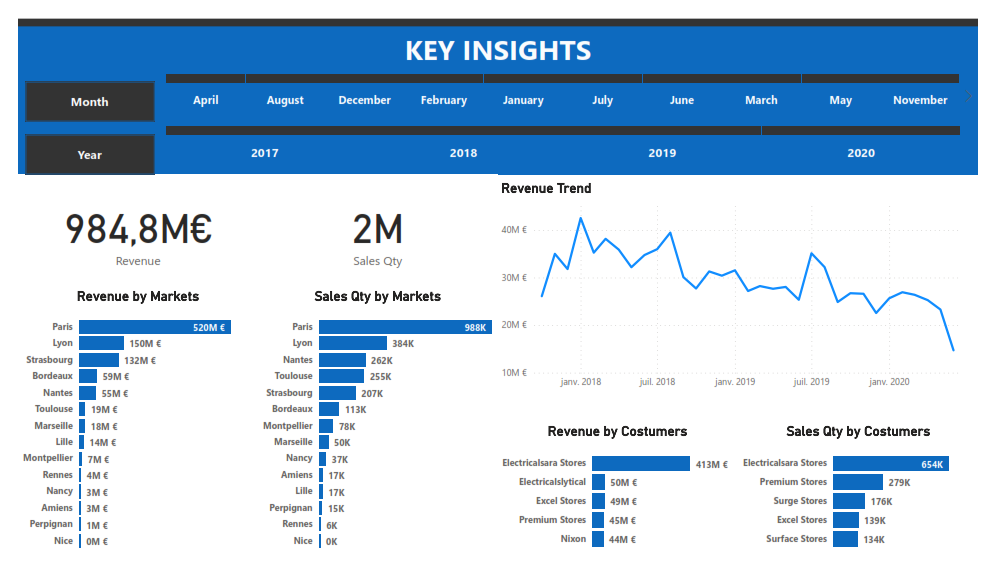

This screenshot's page, from the dashboard's own definition file:
{"tool":"powerbi","page":{"name":"Key Insights ","canvas":[1280,720],"ordinal":0},"visuals":[{"type":"textbox","box":[0,11.7,1280,196.7],"z":0},{"type":"card","fields":{"Values":["BaseMesure.Revenue"]},"box":[0,208.3,320,151.7],"z":1000},{"type":"card","fields":{"Values":["BaseMesure.Sales Qty"]},"box":[320,208.3,320,151.7],"z":2000},{"type":"barChart","title":"Revenue by Markets","fields":{"Category":["sales markets.markets_name"],"Y":["BaseMesure.Revenue"]},"box":[0,360,320,360],"z":3000},{"type":"barChart","title":"Sales Qty by Markets","fields":{"Category":["sales markets.markets_name"],"Y":["BaseMesure.Sales Qty"]},"box":[320,360,320,360],"z":4000},{"type":"slicer","fields":{"Values":["sales date.year"]},"box":[171.7,138.3,1108.3,70],"z":5000},{"type":"slicer","fields":{"Values":["sales date.month_name"]},"box":[171.7,68.3,1108.3,70],"z":6000},{"type":"shape","box":[0,0,1280,11.7],"z":7000},{"type":"shape","box":[10,85,171.7,53.3],"z":8000},{"type":"shape","box":[10,155,171.7,53.3],"z":9000},{"type":"barChart","title":"Revenue by Costumers","fields":{"Category":["sales customers.custmer_name"],"Y":["BaseMesure.Revenue"]},"box":[640,540,320,180],"z":10000},{"type":"barChart","title":"Sales Qty by Costumers","fields":{"Category":["sales customers.custmer_name"],"Y":["BaseMesure.Sales Qty"]},"box":[960,540,320,180],"z":11000},{"type":"lineChart","title":"Revenue Trend","fields":{"Y":["BaseMesure.Revenue"],"Category":["sales date.cy_date"]},"box":[640,216.7,640,286.7],"z":12000}]}

Visuals, with their boxes in screenshot pixels (x1, y1, x2, y2), scaled from the page's 1280x720 canvas onto the 996x576 screenshot:
textbox: detection(0, 9, 995, 167)
card - BaseMesure.Revenue: detection(0, 167, 249, 288)
card - BaseMesure.Sales Qty: detection(249, 167, 498, 288)
"Revenue by Markets" barChart: detection(0, 288, 249, 575)
"Sales Qty by Markets" barChart: detection(249, 288, 498, 575)
slicer - sales date.year: detection(134, 111, 995, 167)
slicer - sales date.month_name: detection(134, 55, 995, 111)
shape: detection(0, 0, 995, 9)
shape: detection(8, 68, 141, 111)
shape: detection(8, 124, 141, 167)
"Revenue by Costumers" barChart: detection(498, 432, 747, 575)
"Sales Qty by Costumers" barChart: detection(747, 432, 995, 575)
"Revenue Trend" lineChart: detection(498, 173, 995, 403)
